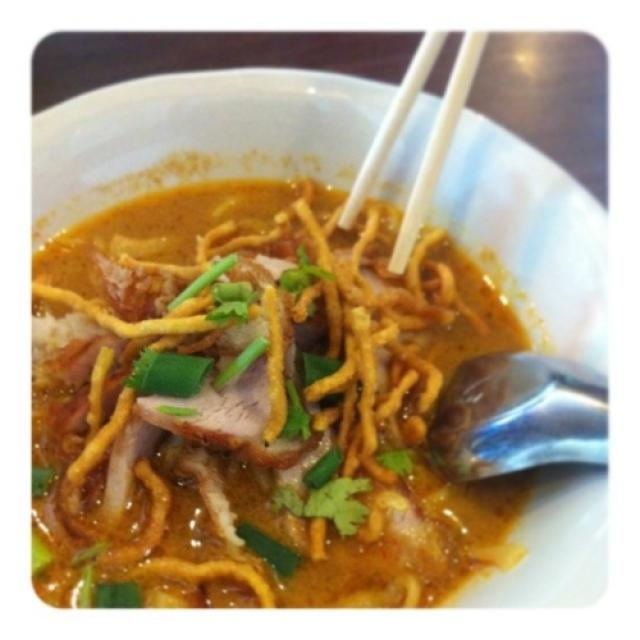面条主食: (32, 60, 599, 618)
